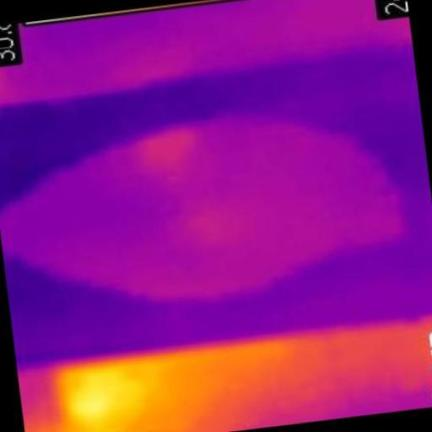mango: (0, 117, 405, 299)
